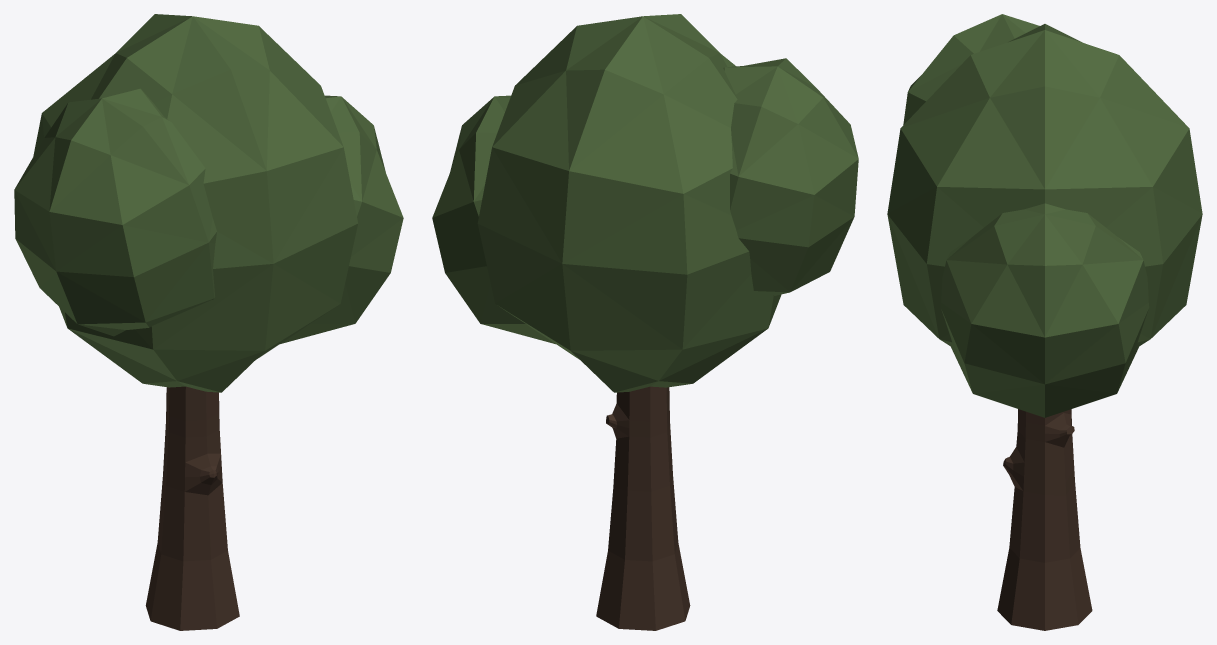
The model's file is MedTree.fbx.
3 renders of one model, left to right at view 1: azimuth 30°, elevation 25°; view 2: azimuth 150°, elevation 25°; view 3: azimuth 270°, elevation 25°, orthographic. The views are drawn at different scales.
Visible parts, largest first — view 1: treetop, treetop2, treetrunk, treetop1; view 2: treetop, treetop2, treetrunk, treetop1; view 3: treetop, treetop1, treetrunk, treetop2.
Part boxes in pixels (x1=…): treetop: x1=33, y1=14, x2=357, y2=392; treetop2: x1=14, y1=88, x2=216, y2=336; treetrunk: x1=145, y1=386, x2=239, y2=630; treetop1: x1=280, y1=95, x2=403, y2=343; treetop: x1=477, y1=14, x2=781, y2=392; treetop2: x1=723, y1=58, x2=858, y2=295; treetrunk: x1=596, y1=386, x2=690, y2=630; treetop1: x1=432, y1=95, x2=555, y2=344; treetop: x1=887, y1=24, x2=1202, y2=346; treetop1: x1=940, y1=203, x2=1149, y2=417; treetrunk: x1=997, y1=409, x2=1092, y2=630; treetop2: x1=903, y1=14, x2=1039, y2=124.
Bounding box in the file's own units: 18.8 × 28.4 × 13.97.
